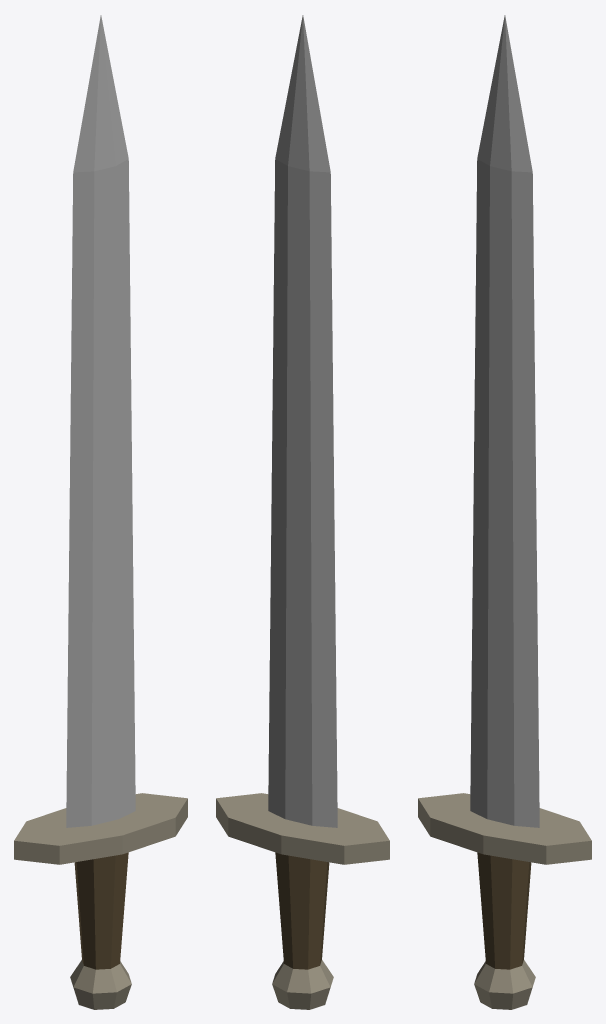
File: sword_large.fbx
3 views of the same model, side by side, from view 1: azimuth 30°, elevation 25°; view 2: azimuth 150°, elevation 25°; view 3: azimuth 330°, elevation 25° (orthographic).
Parts seen in each view (by area): view 1: Cylinder.003; view 2: Cylinder.003; view 3: Cylinder.003.
Part boxes in pixels (left/top/right/bottom): Cylinder.003: left=14, top=15, right=187, bottom=1009; Cylinder.003: left=216, top=15, right=389, bottom=1009; Cylinder.003: left=418, top=15, right=591, bottom=1009.
Size of the model in its own units: 0.192 by 1.04 by 0.0832.
